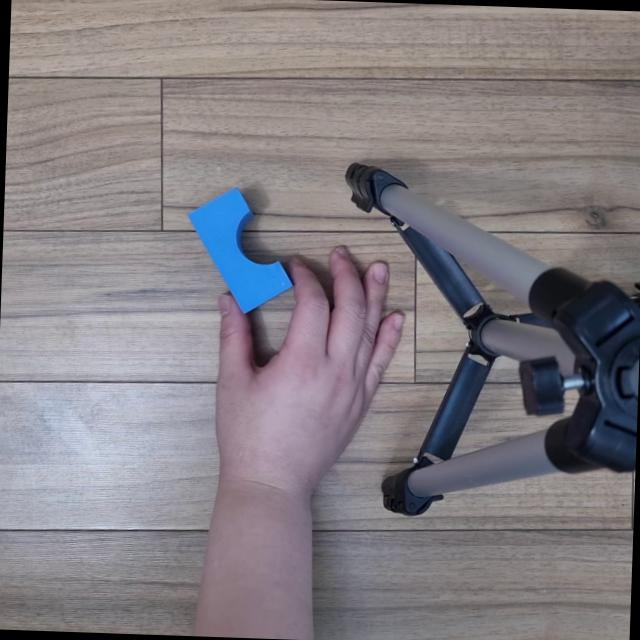block: (184, 179, 300, 325)
hand: (196, 230, 414, 515)
